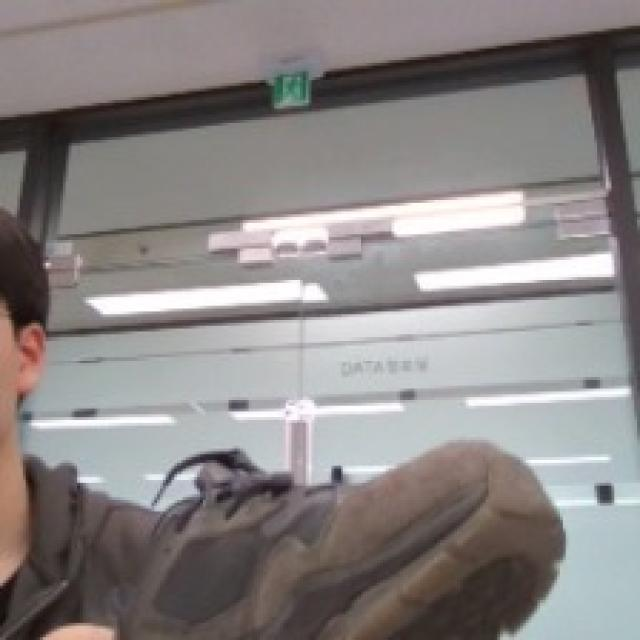shoe: (107, 437, 571, 640)
